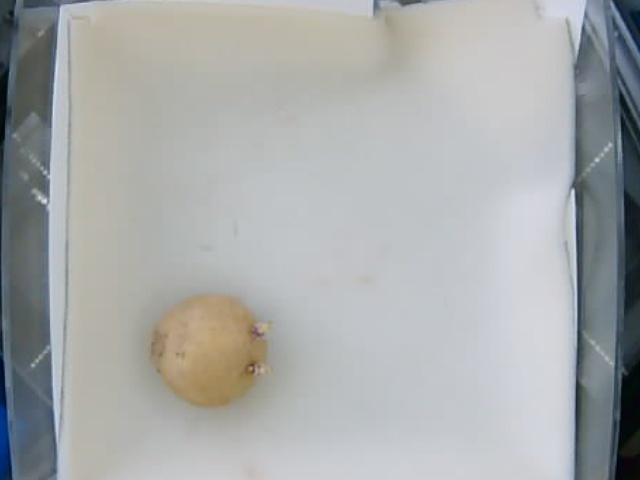Potato: (150, 294, 272, 409)
